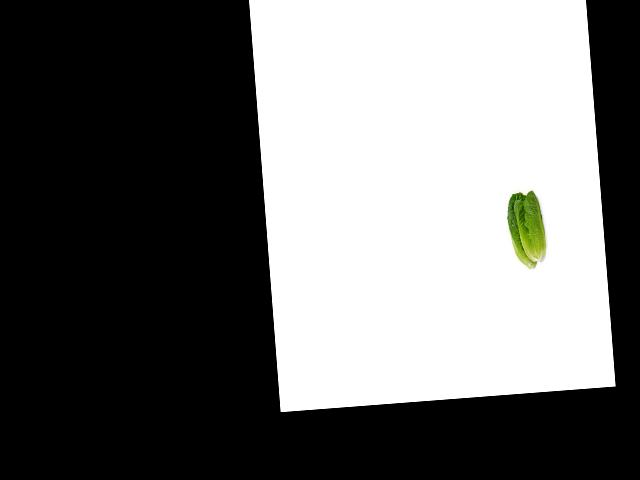lettuce: (505, 188, 552, 269)
